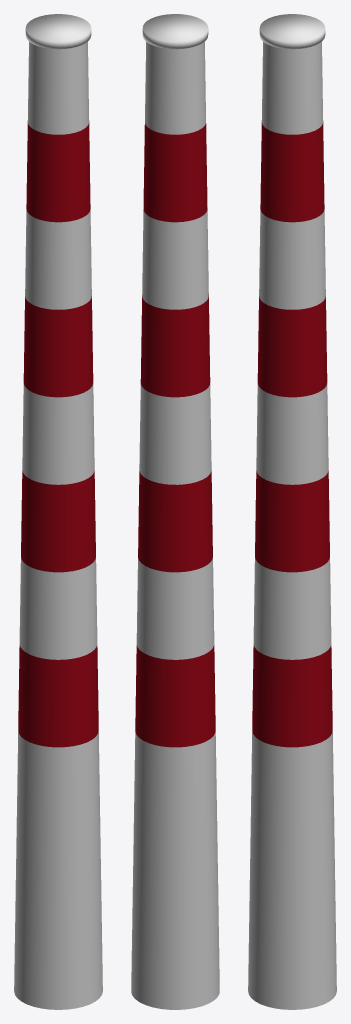
Rendered from Tower.fbx.
The picture shows the model from 3 angles, left to right: view 1: azimuth 90°, elevation 25°; view 2: azimuth 150°, elevation 25°; view 3: azimuth 270°, elevation 25°; orthographic projection.
Parts seen in each view (by area): view 1: Tower White, Tower Red, Cap; view 2: Tower White, Tower Red, Cap; view 3: Tower White, Tower Red, Cap.
Boxes of the visible parts, <box> form: Tower White: <box>14,41,102,1009</box>; Tower Red: <box>18,122,98,747</box>; Cap: <box>25,14,91,49</box>; Tower White: <box>131,41,219,1009</box>; Tower Red: <box>135,123,215,747</box>; Cap: <box>142,14,208,49</box>; Tower White: <box>248,41,336,1009</box>; Tower Red: <box>252,122,332,747</box>; Cap: <box>259,14,325,49</box>.
Bounding box in the file's own units: 600 × 7180 × 600.
